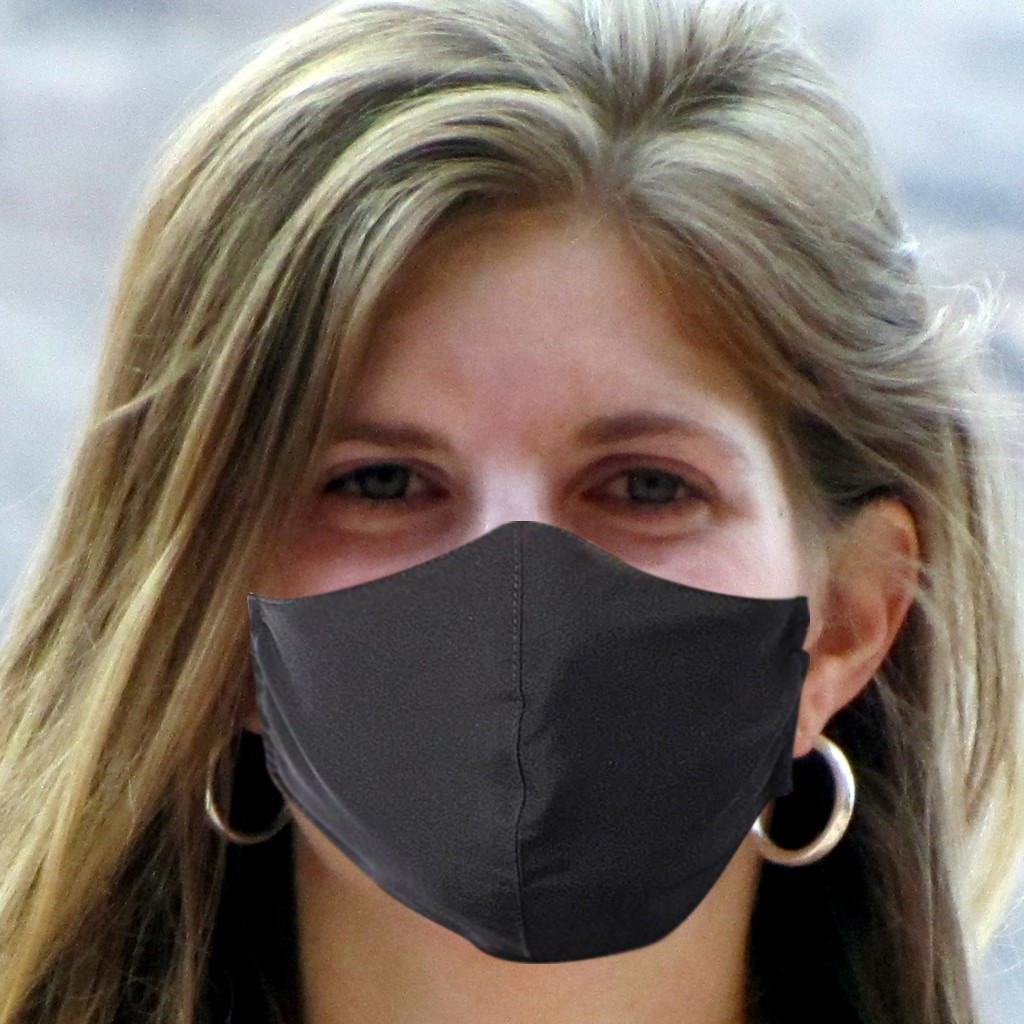con_mascara: (196, 110, 866, 962)
